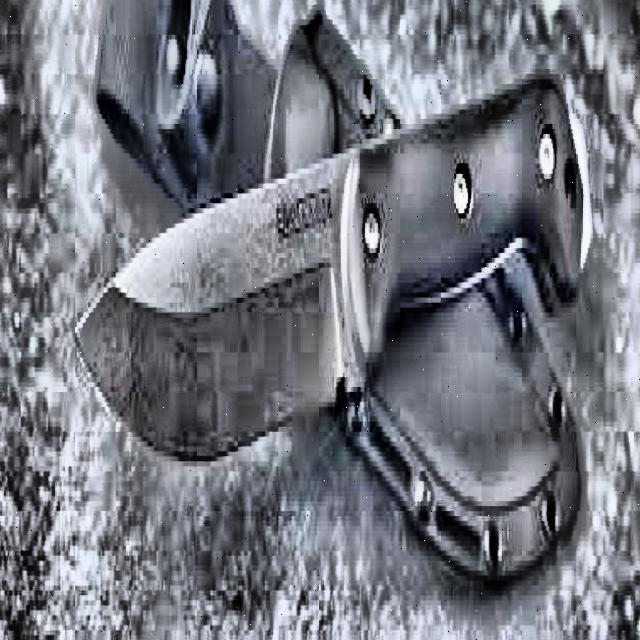knife: (73, 54, 603, 460)
